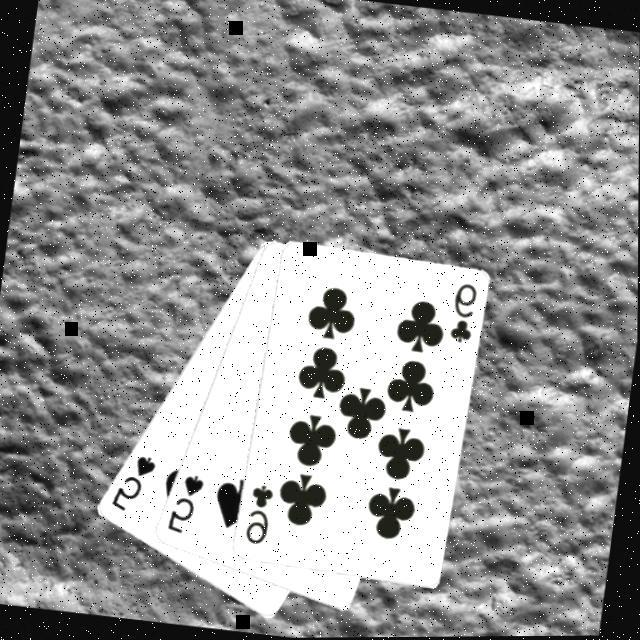5S: (107, 450, 160, 520), (163, 471, 208, 541)
9C: (241, 482, 278, 551), (445, 282, 481, 351)
